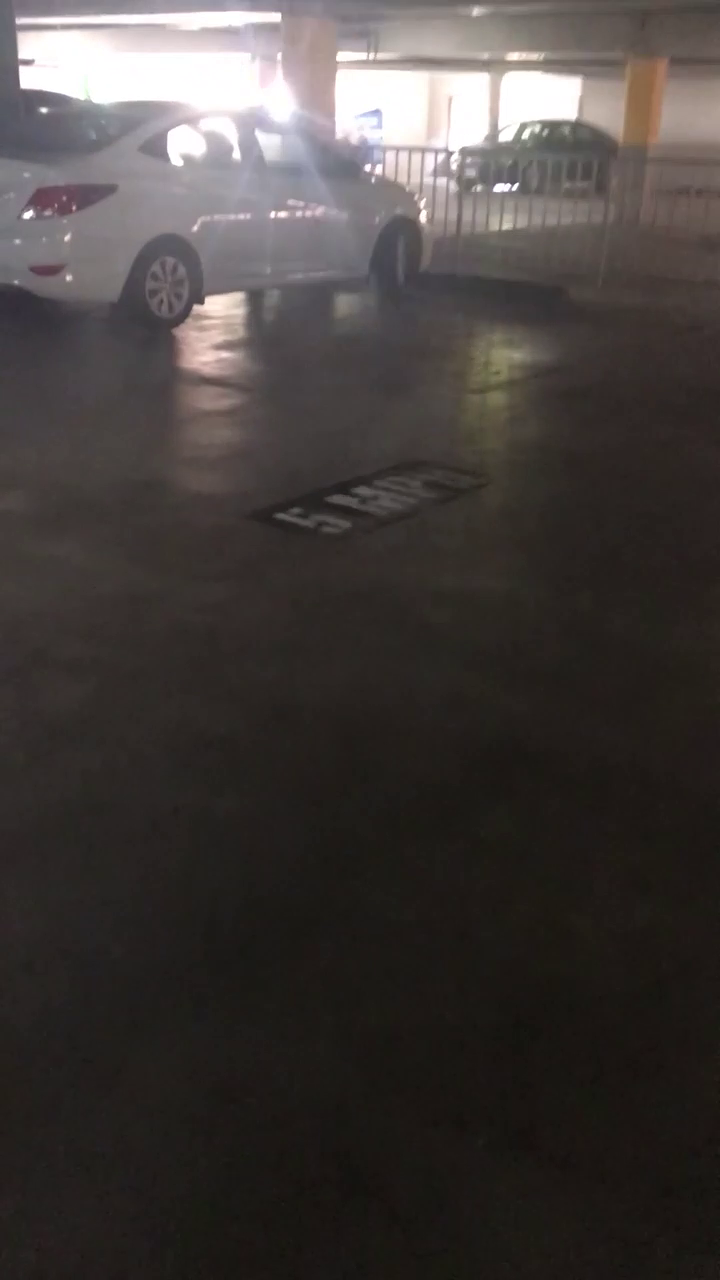car: (0, 67, 447, 336)
